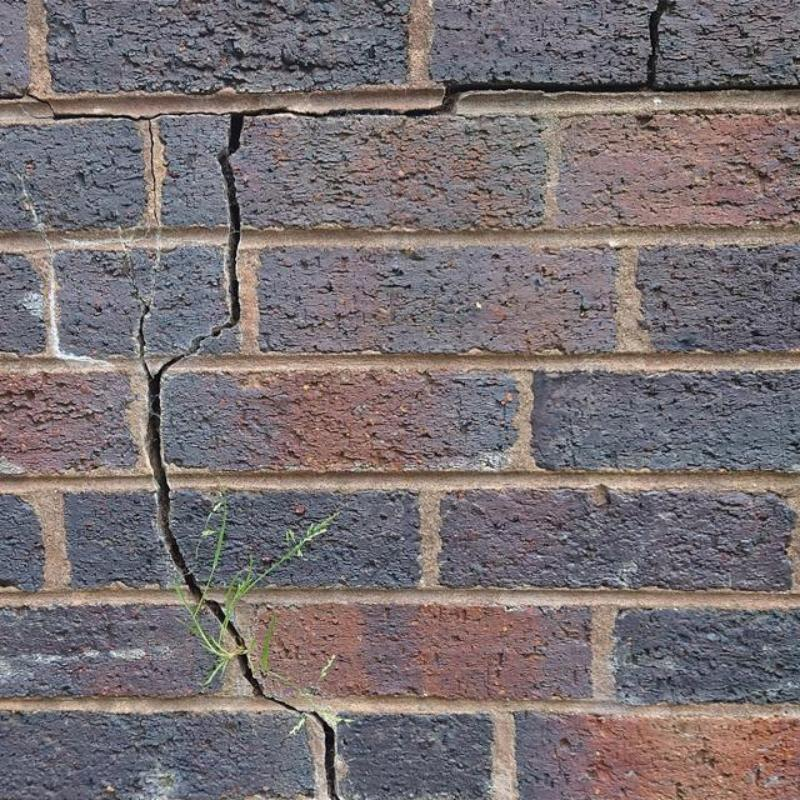pothole: (25, 91, 404, 329), (405, 0, 800, 115), (209, 600, 340, 800), (140, 304, 220, 599)
